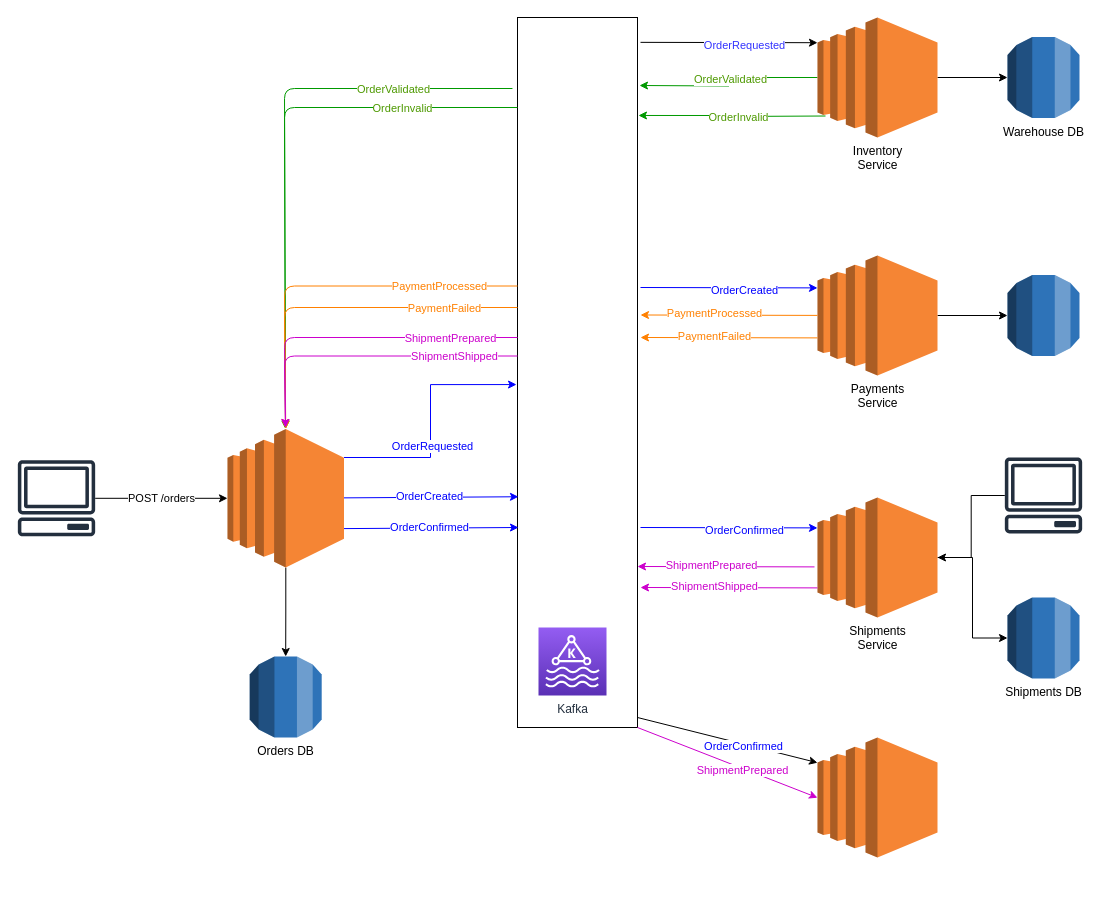
The diagram is 1101 pixels wide and 911 high, and some of its shapes have lost their labels. The shapes that lost their labels are listed below. From the top down, each one's centre as x and y in pixels, then its label:
At (x=1043, y=315): "Payments DB".
At (x=285, y=498): "Orders Service".
At (x=877, y=797): "Emails Service".
